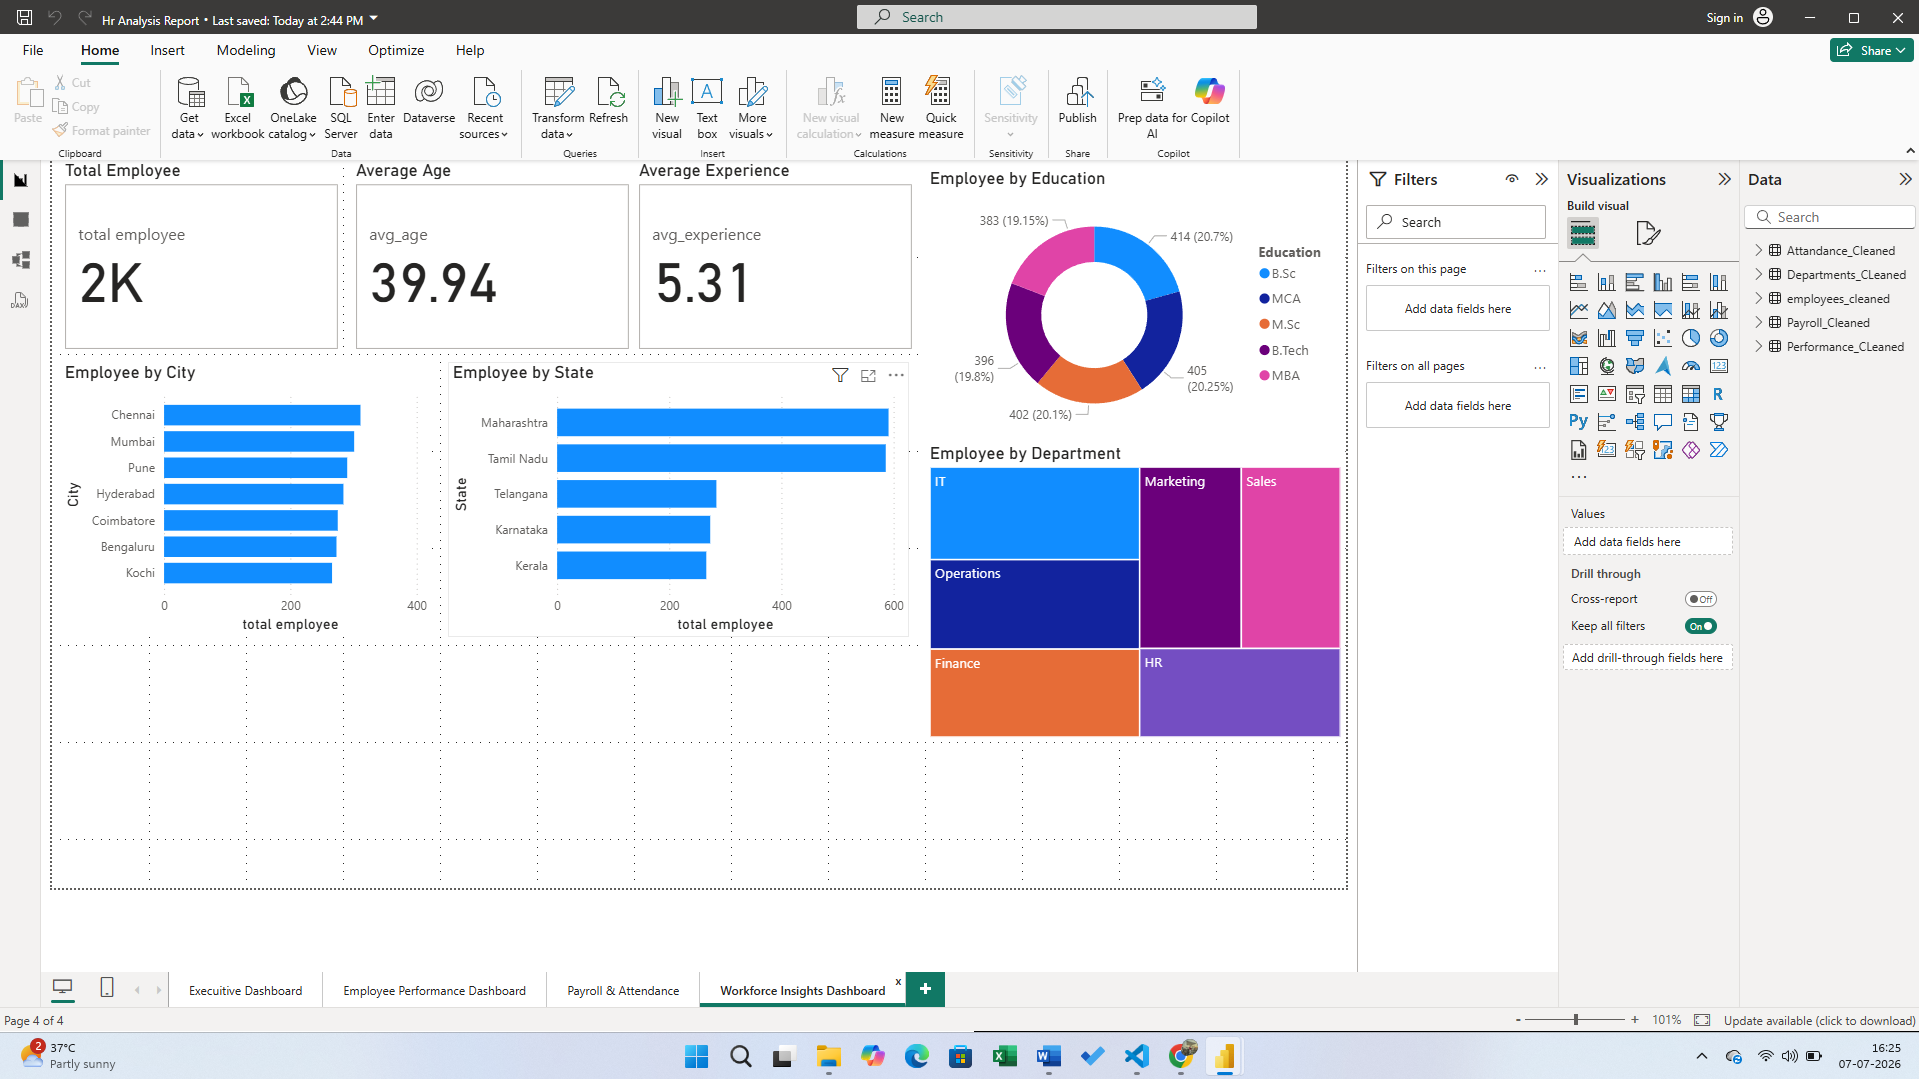

Layout of this report page (visuals, bound fields, positions):
{"tool":"powerbi","page":{"name":"Workforce Insights Dashboard","canvas":[1280,720],"ordinal":3},"visuals":[{"type":"cardVisual","title":"Total Employee","fields":{"Data":["Attandance_Cleaned.total employee"]},"box":[8,0,280,192],"z":0},{"type":"cardVisual","title":"Average Age","fields":{"Data":["Attandance_Cleaned.avg_age"]},"box":[296,0,280,192],"z":1},{"type":"cardVisual","title":"Average Experience","fields":{"Data":["Attandance_Cleaned.avg_experience"]},"box":[576,0,280,192],"z":2},{"type":"donutChart","title":"Employee by Education","fields":{"Category":["employees_cleaned.Education"],"Y":["Attandance_Cleaned.total employee"]},"box":[864,8,416,272],"z":3},{"type":"barChart","title":"Employee by City","fields":{"Category":["employees_cleaned.City"],"Y":["Attandance_Cleaned.total employee"]},"box":[8,200,368,272],"z":4},{"type":"barChart","title":"Employee by State","fields":{"Category":["employees_cleaned.State"],"Y":["Attandance_Cleaned.total employee"]},"box":[392,200,456,272],"z":5},{"type":"treemap","title":"Employee by Department","fields":{"Group":["Departments_CLeaned.Department"],"Values":["Attandance_Cleaned.total employee"]},"box":[864,280,416,296],"z":6}]}

Visuals, with their boxes on the page's 1280x720 design canvas (x1, y1, x2, y2). These are canvas units, not pixel positions in the 1919x1079 screenshot, which may show the page scaled, cropped or inside an application window:
"Total Employee" cardVisual: left=8, top=0, right=288, bottom=192
"Average Age" cardVisual: left=296, top=0, right=576, bottom=192
"Average Experience" cardVisual: left=576, top=0, right=856, bottom=192
"Employee by Education" donutChart: left=864, top=8, right=1280, bottom=280
"Employee by City" barChart: left=8, top=200, right=376, bottom=472
"Employee by State" barChart: left=392, top=200, right=848, bottom=472
"Employee by Department" treemap: left=864, top=280, right=1280, bottom=576
